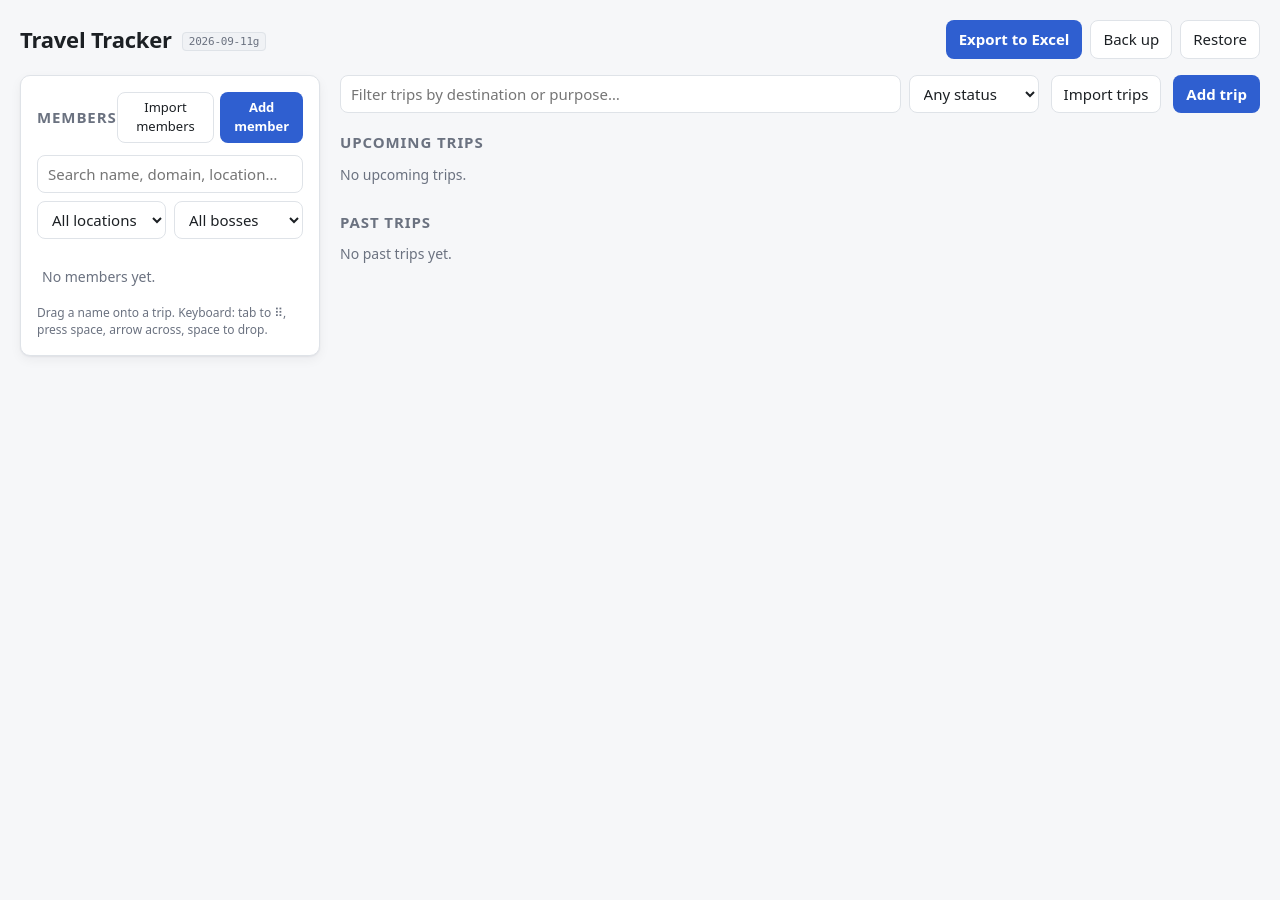
Test case: Travel Tracker › a trip in the future appears under upcoming trips
Step 1. Click the button "Add trip" → (1217, 94), box [1173, 74, 1260, 113]
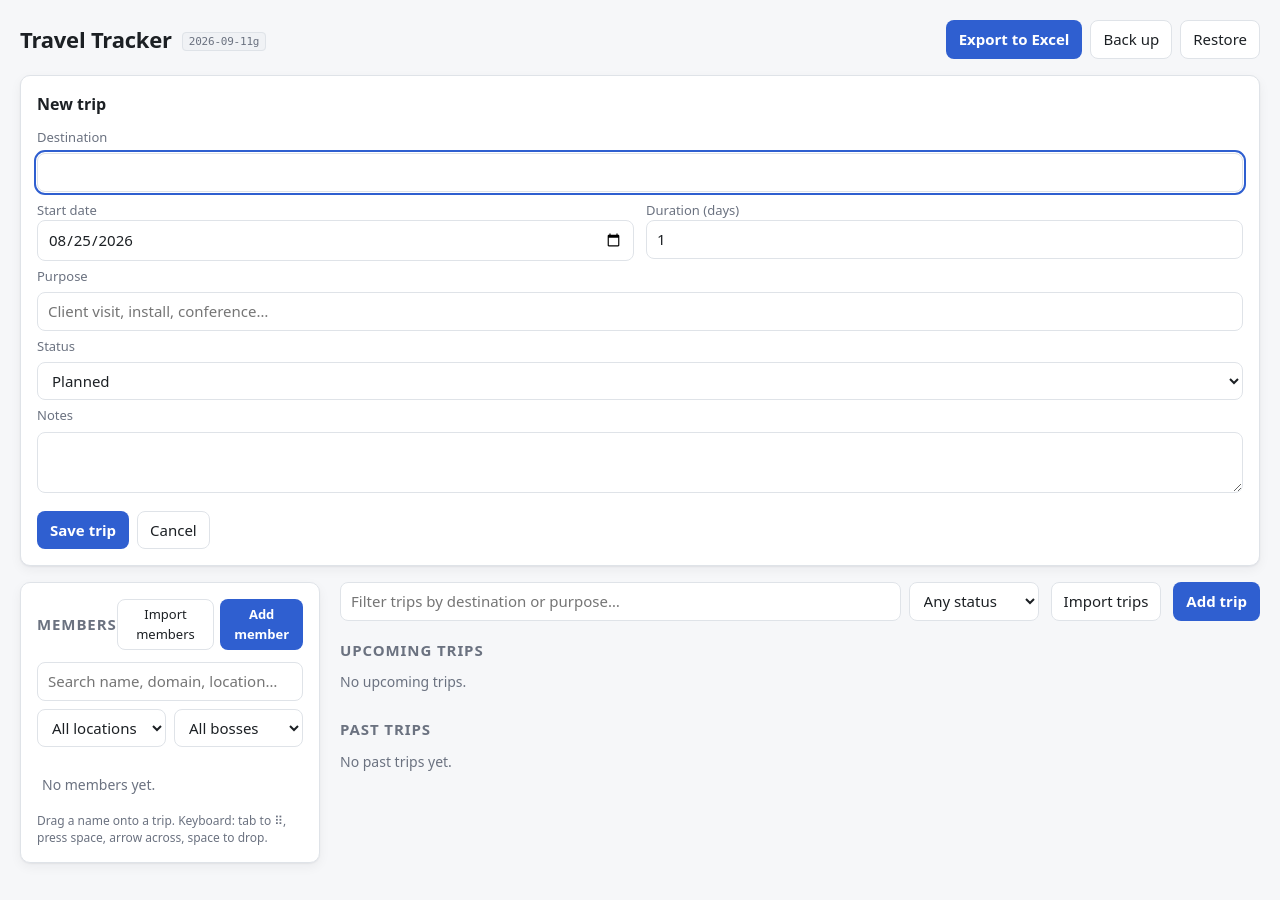
Step 2. Type "Tokyo" into the field labelled "Destination" → (640, 172), box [37, 153, 1243, 192]
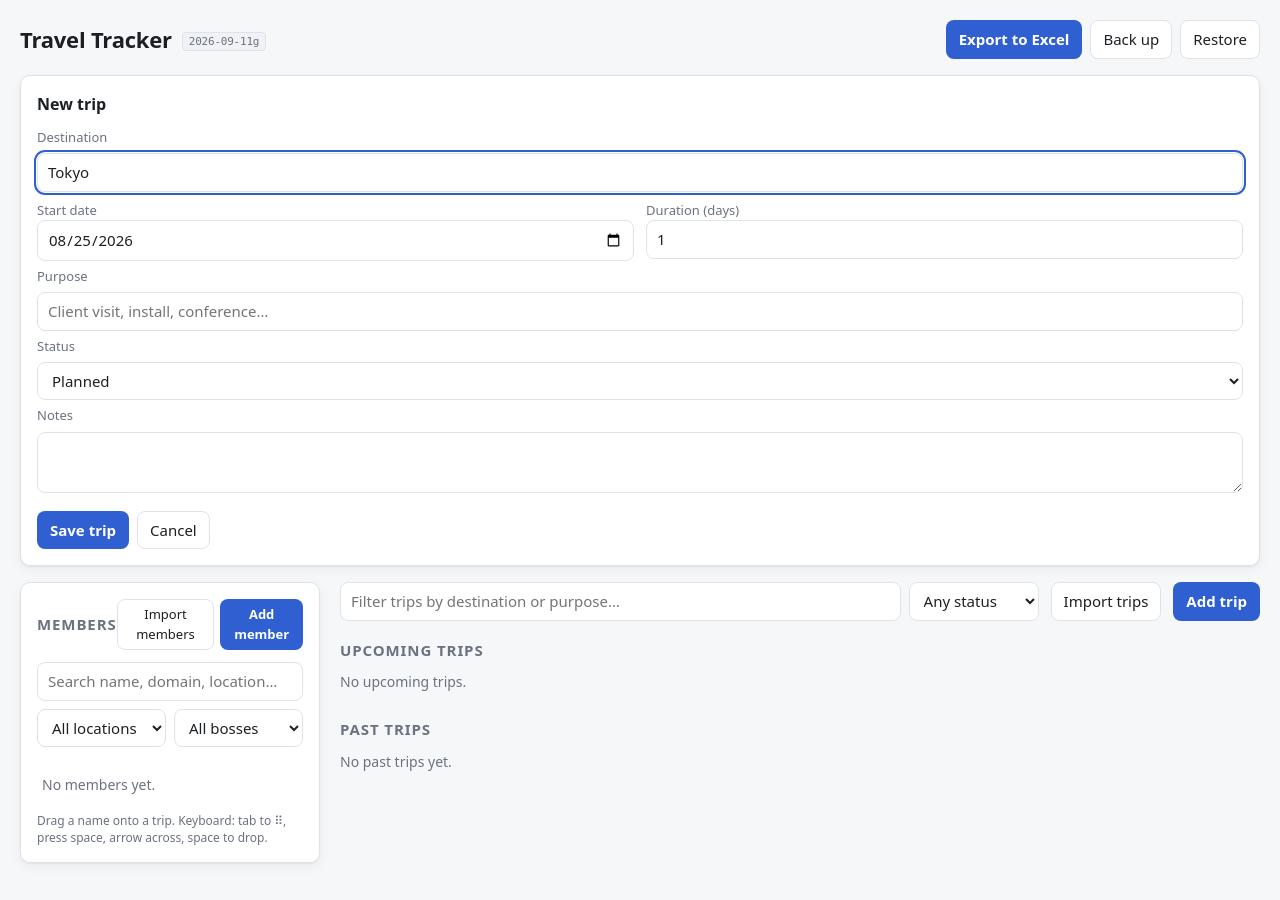
Step 3. Type "2026-10-05" into the date field labelled "Start date" → (336, 240), box [37, 220, 634, 260]
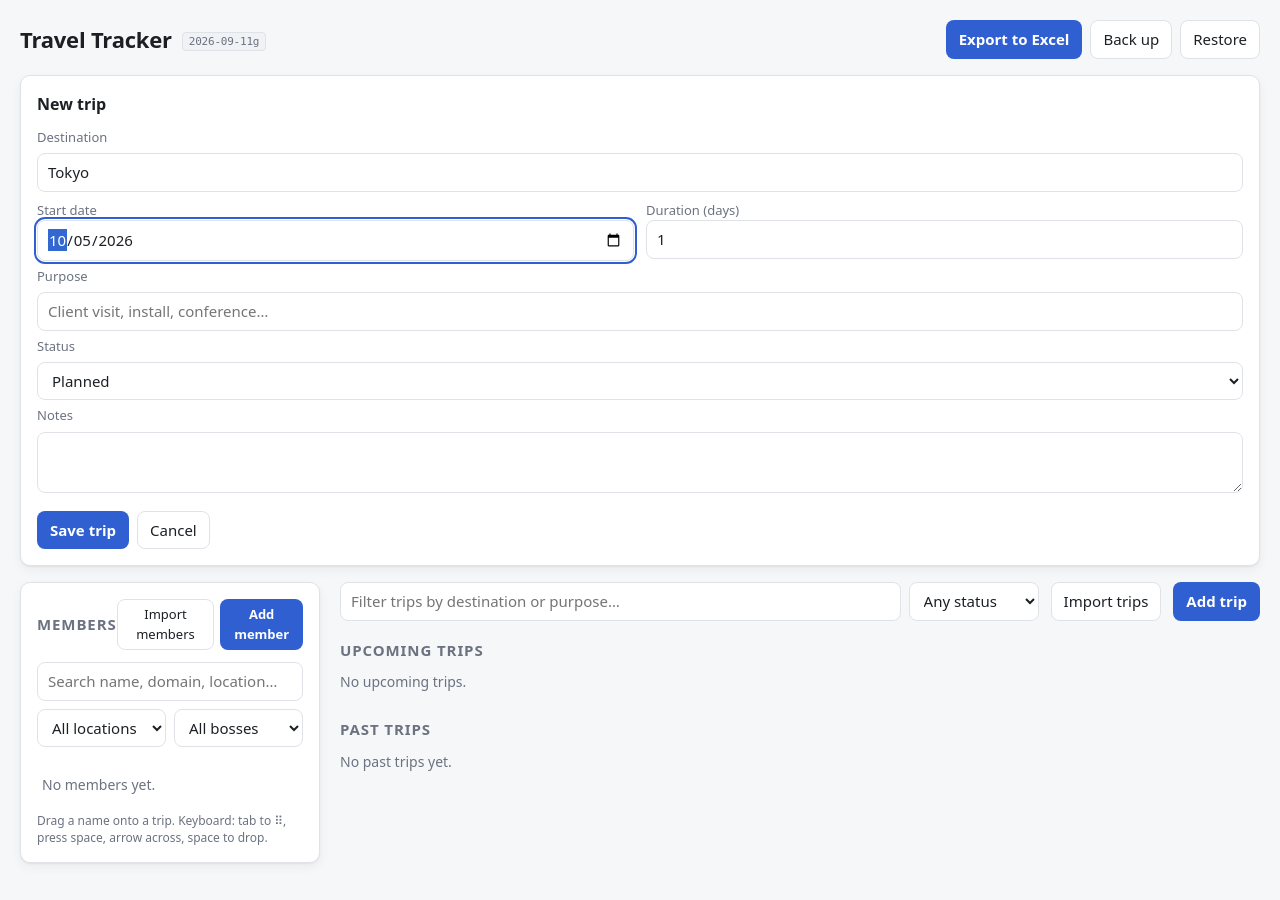
Step 4. Replace the text in the number field labelled "Duration (days)" with "7" → (944, 239), box [646, 220, 1243, 258]
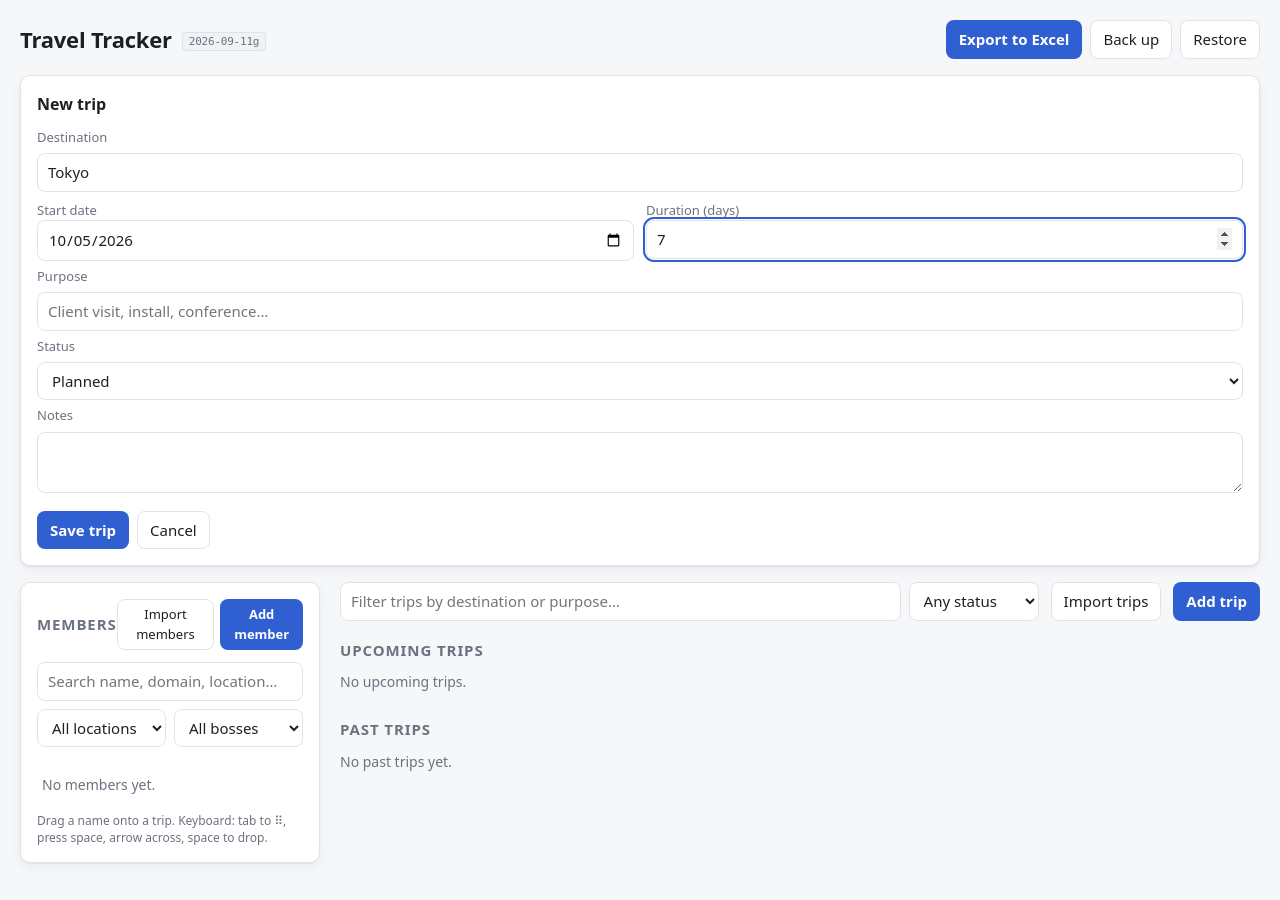
Step 5. Click the button "Save trip" → (83, 530), box [37, 510, 129, 549]
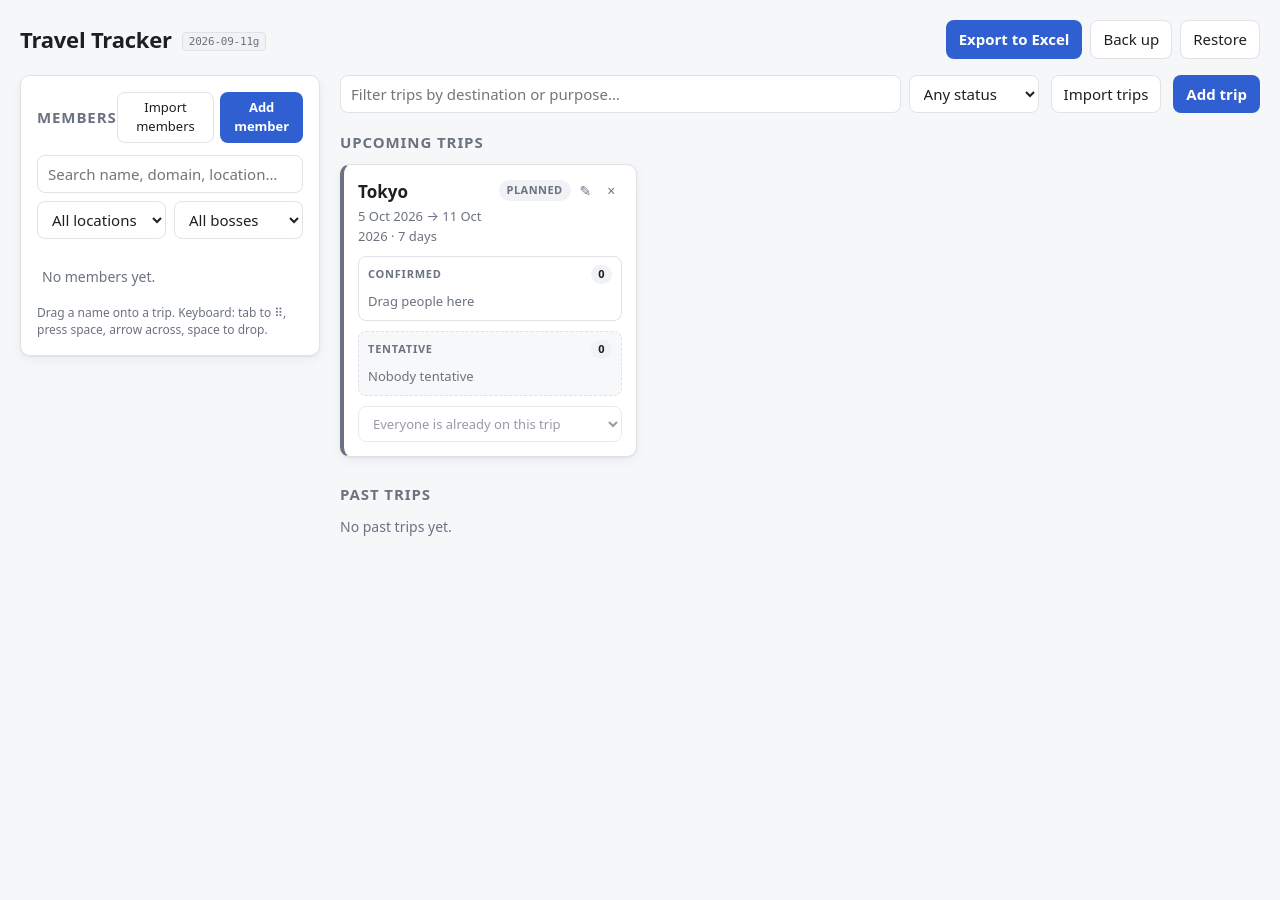
Now the element "Tokyo" is shown, box [340, 164, 637, 457]
